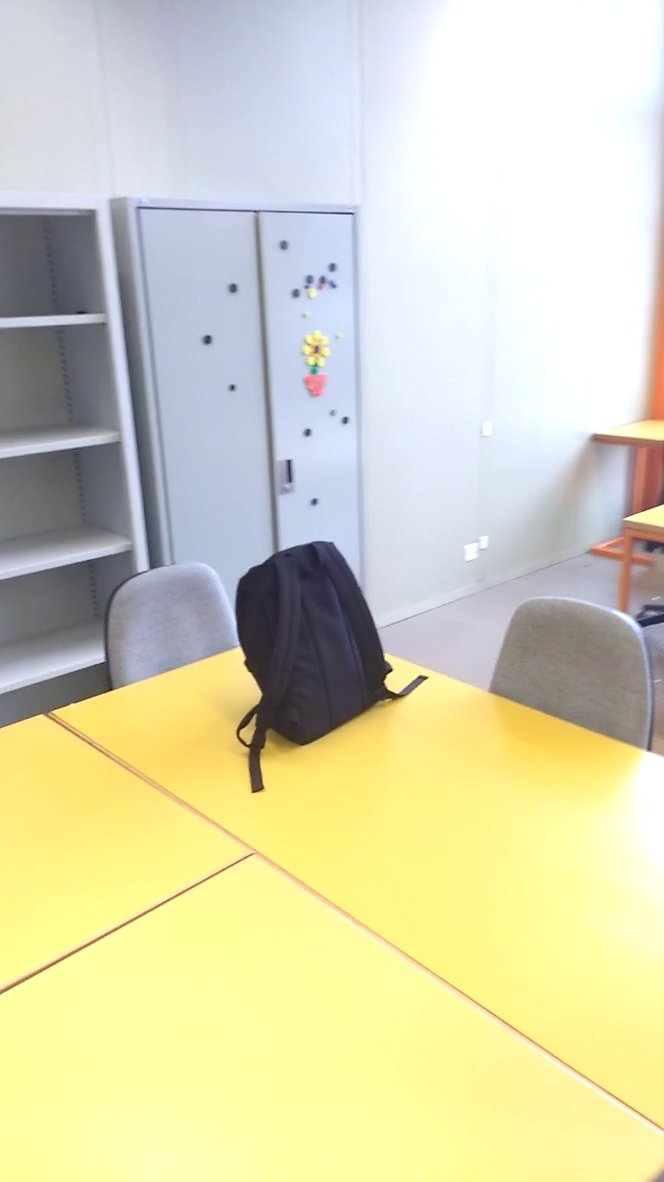bag: (232, 537, 432, 795)
chair: (477, 591, 664, 755), (93, 551, 244, 706)
